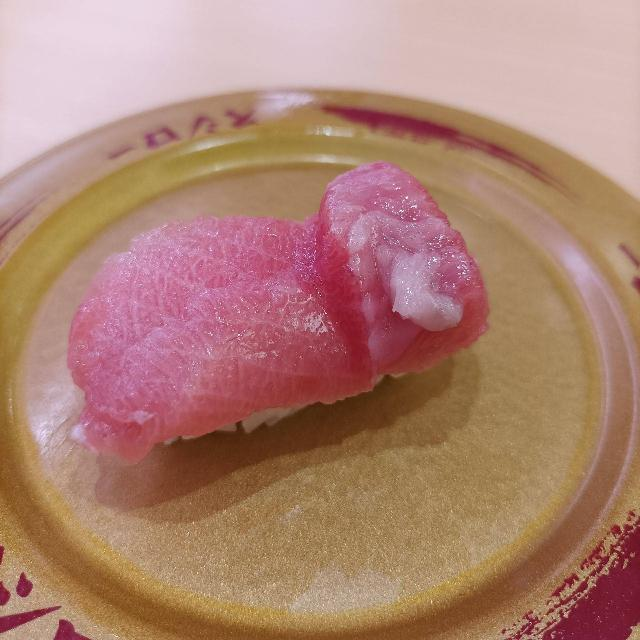jangold: (0, 59, 640, 635)
